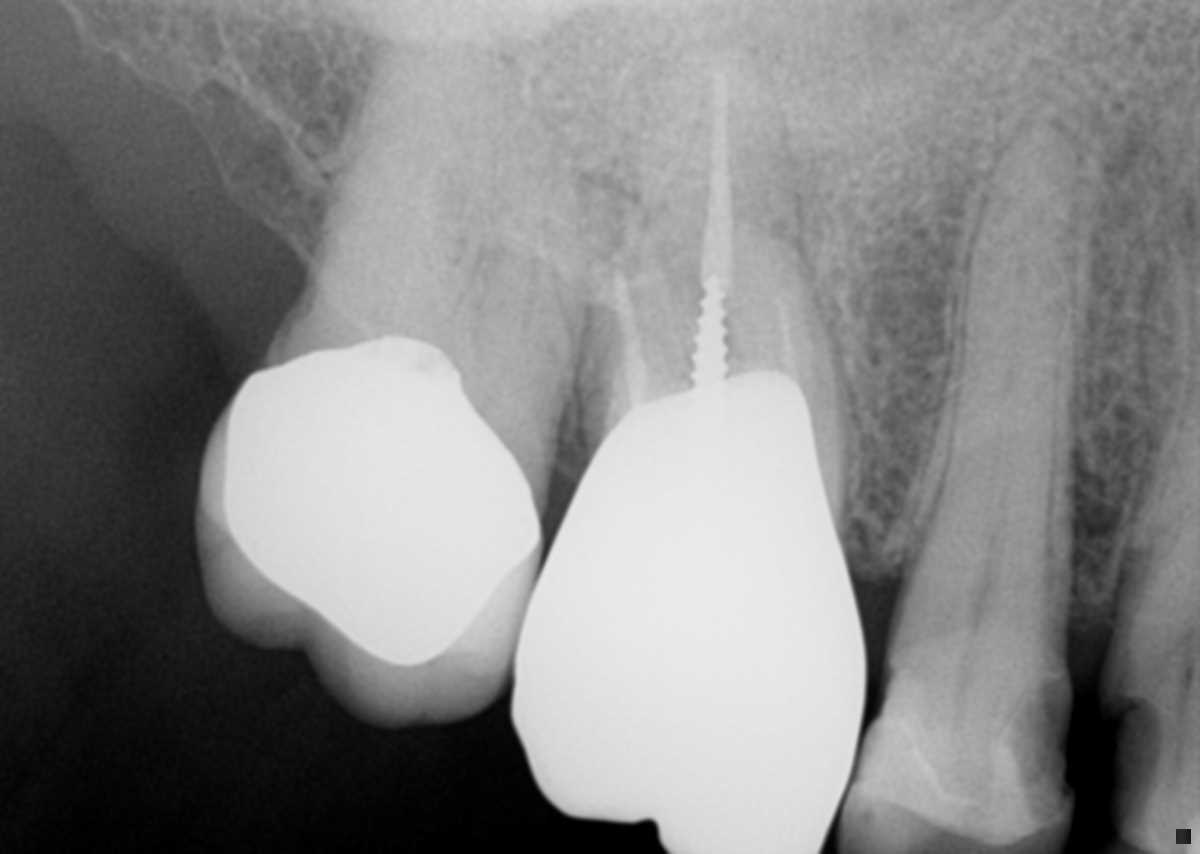Distal Root: (282, 0, 514, 354), (577, 208, 689, 444)
Main Canal: (981, 254, 1027, 578)
Main Root: (915, 121, 1086, 595)
Mesial Root: (443, 110, 585, 462), (723, 230, 842, 492), (776, 296, 801, 380)
Palatal Root: (605, 50, 824, 431)
Root Canal Filling: (699, 62, 733, 300), (616, 270, 653, 403)
decay: (999, 675, 1077, 820), (1097, 697, 1167, 827)
